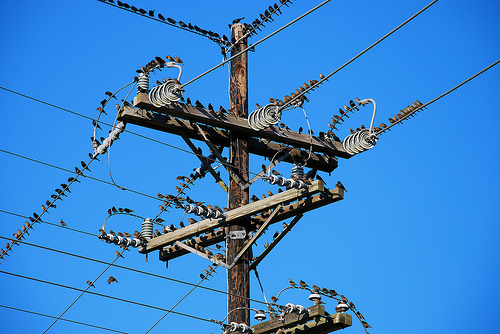pole: (113, 18, 375, 333)
